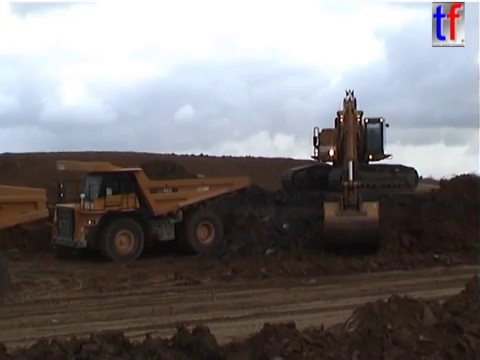excavator: (279, 86, 421, 252)
truck: (50, 157, 251, 262), (1, 181, 50, 233)
